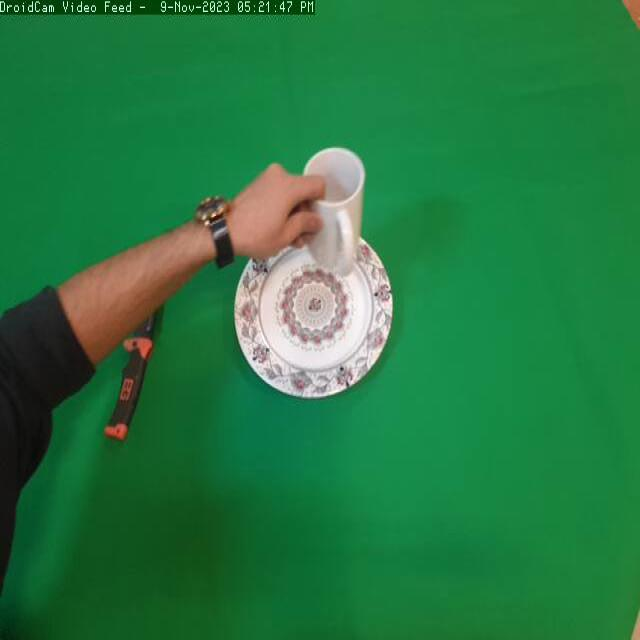cup: (299, 140, 382, 282)
knife: (96, 307, 164, 444)
plate: (227, 220, 407, 410)
